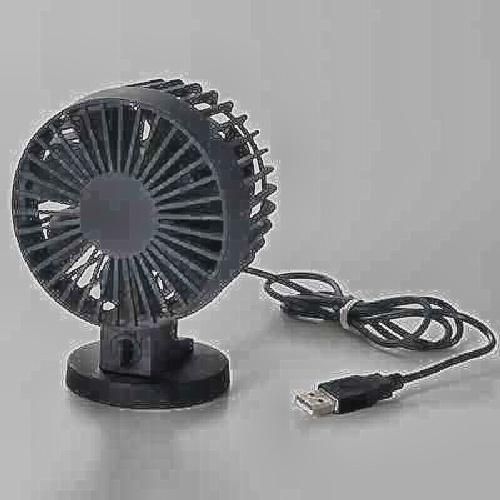fan: (20, 90, 280, 424)
